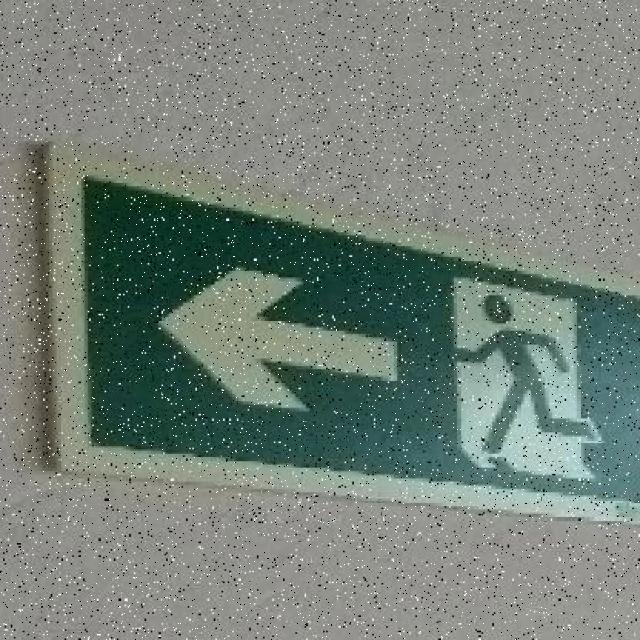emergency_exit: (76, 174, 638, 509)
